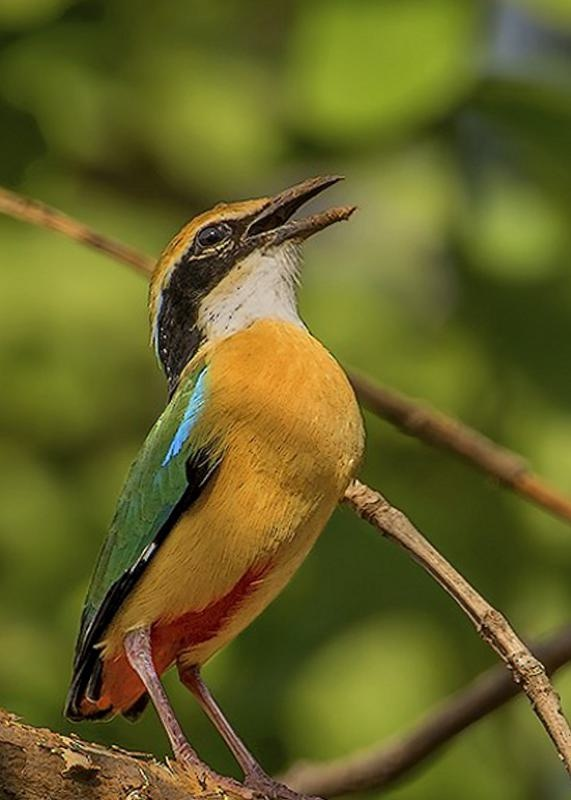pitta: (23, 135, 403, 789)
